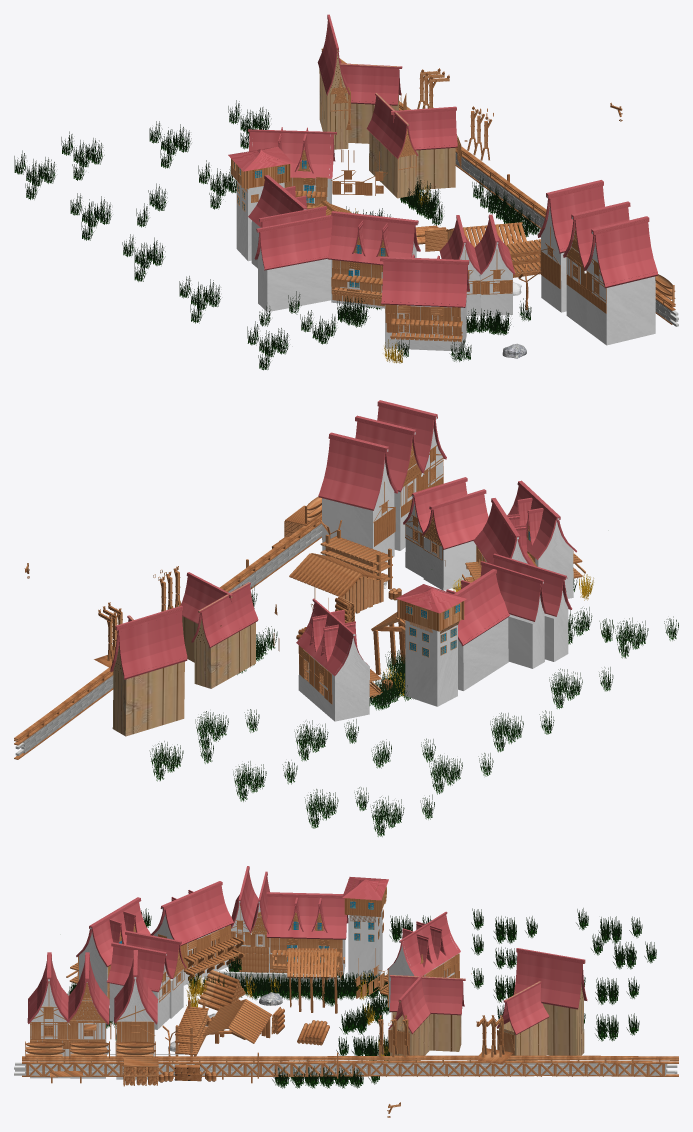
File: GamingHouse.fbx
The picture shows the model from 3 angles, top to bottom: view 1: azimuth 30°, elevation 25°; view 2: azimuth 150°, elevation 25°; view 3: azimuth 270°, elevation 25°; orthographic projection. The views are drawn at different scales.
Parts seen in each view (by area): view 1: Cube.1356, Cube, Cube.250, Cube.1140, Cube.322, Cube.257, Cube.571, Cube.248, Cube.254, Cube.251, Cube.167, Cube.249 (+20 smaller); view 2: Cube.265, Cube.248, Cube.252, Cube.077, Cube.570, Cube.167, Cube.063, Cube.1286, Cube.404, Cube.007, Cube.259, Cube.253 (+21 smaller); view 3: Cube.007, Cube.404, Cube.252, Cube.1140, Cube.930, Cube.253, Cube.003, Cube.077, Cube.265, Cube.1287, Cube.571, Cube.1356 (+30 smaller).
Boxes of the visible parts, x1,y1,x2,y2 form: Cube.1356: (380,256,469,307); Cube: (584,232,655,345); Cube.250: (584,216,657,288); Cube.1140: (327,211,420,265); Cube.322: (255,230,331,312); Cube.257: (254,215,332,270); Cube.571: (248,129,336,178); Cube.248: (537,180,604,253); Cube.254: (391,106,457,150); Cube.251: (340,63,402,105); Cube.167: (369,93,415,198); Cube.249: (563,201,630,270); Cube.265: (112,628,184,736); Cube.248: (318,432,397,510); Cube.252: (110,605,187,679); Cube.077: (405,620,457,706); Cube.570: (298,607,369,721); Cube.167: (194,582,255,688); Cube.063: (322,449,394,561); Cube.1286: (422,489,488,549); Cube.404: (454,569,509,646); Cube.007: (15,523,321,755); Cube.259: (458,617,508,690); Cube.253: (191,582,258,648); Cube.007: (14,1062,677,1075); Cube.404: (266,892,348,939); Cube.252: (513,948,587,1009); Cube.1140: (150,881,233,945); Cube.930: (22,1055,678,1059); Cube.253: (389,975,465,1015); Cube.003: (22,1060,678,1063); Cube.077: (348,909,382,982); Cube.265: (542,962,584,1055); Cube.1287: (106,942,171,992); Cube.571: (387,911,460,976); Cube.1356: (76,897,150,966).
Size of the model in its own units: 28164 by 7285 by 34956.
Materials: 14 (14 with a texture image).
